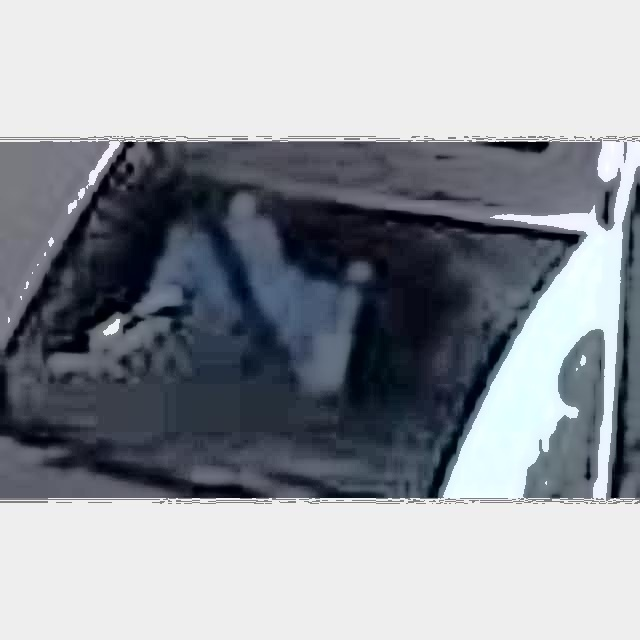pakai: (163, 166, 368, 414)
